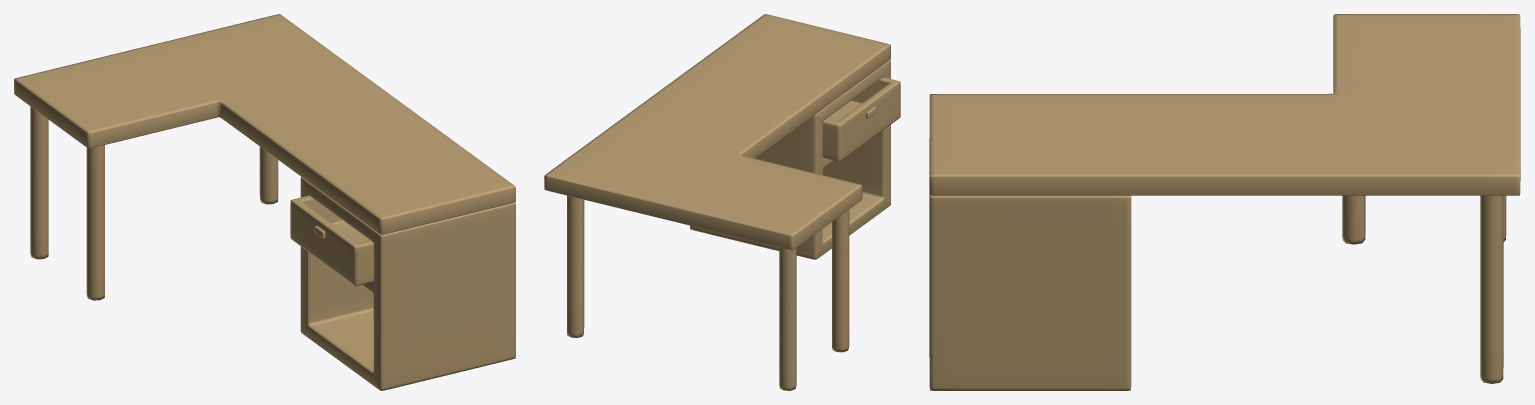
The model's file is desk.glb.
3 views of the same model, side by side, from view 1: azimuth 30°, elevation 25°; view 2: azimuth 150°, elevation 25°; view 3: azimuth 270°, elevation 25° (orthographic). The views are drawn at different scales.
Visible parts, largest first — view 1: Desk; view 2: Desk; view 3: Desk.
Part boxes in pixels (x1,y1,x2,y2): Desk: [14, 14, 515, 390]; Desk: [544, 14, 900, 390]; Desk: [929, 14, 1520, 390].
Size of the model in its own units: 3.09 by 1.92 by 4.75.
Materials: 1 (1 with a texture image).
